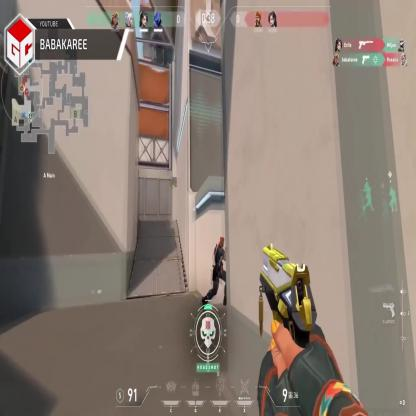enemy: (201, 234, 230, 307)
enemy_head: (219, 236, 225, 250)
